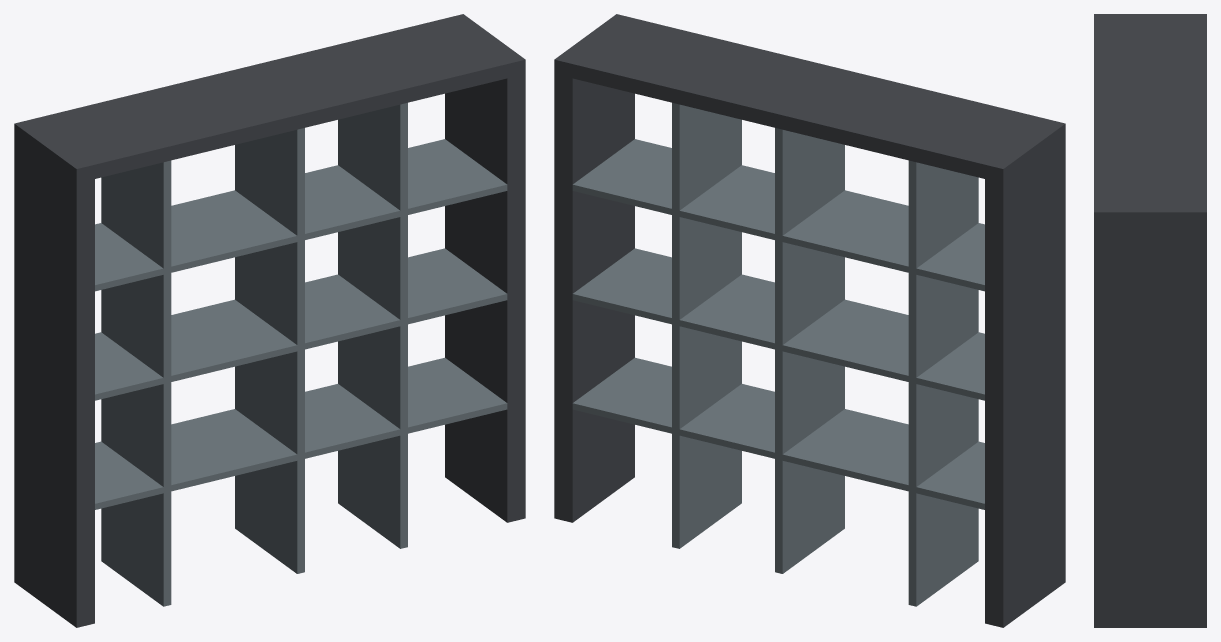
File: Styling fixed.fbx
3 views of the same model, side by side, from view 1: azimuth 30°, elevation 25°; view 2: azimuth 150°, elevation 25°; view 3: azimuth 270°, elevation 25° (orthographic). The views are drawn at different scales.
Parts seen in each view (by area): view 1: Styling; view 2: Styling; view 3: Styling.
Part boxes in pixels (<box>): Styling: <box>14,14,525,627</box>; Styling: <box>554,14,1065,627</box>; Styling: <box>1094,14,1206,627</box>.
Bounding box in the file's own units: 208 × 203 × 50.
